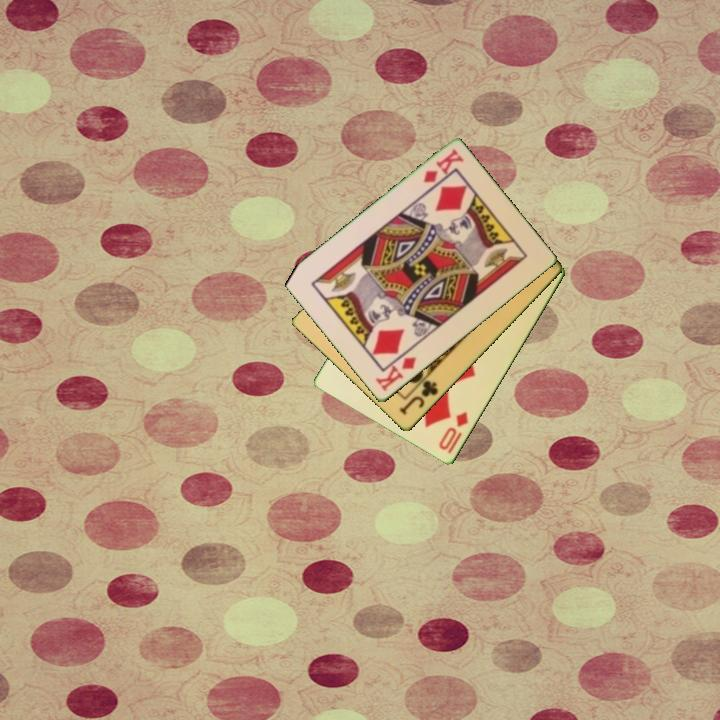10d: (435, 409, 471, 453)
Jc: (396, 377, 441, 418)
Kd: (372, 354, 419, 394), (419, 146, 466, 186)
